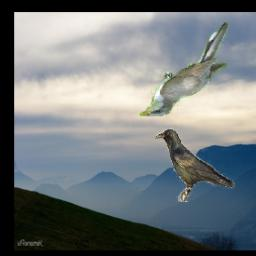Crow: (154, 128, 234, 202)
Cuckoo: (139, 23, 229, 117)
